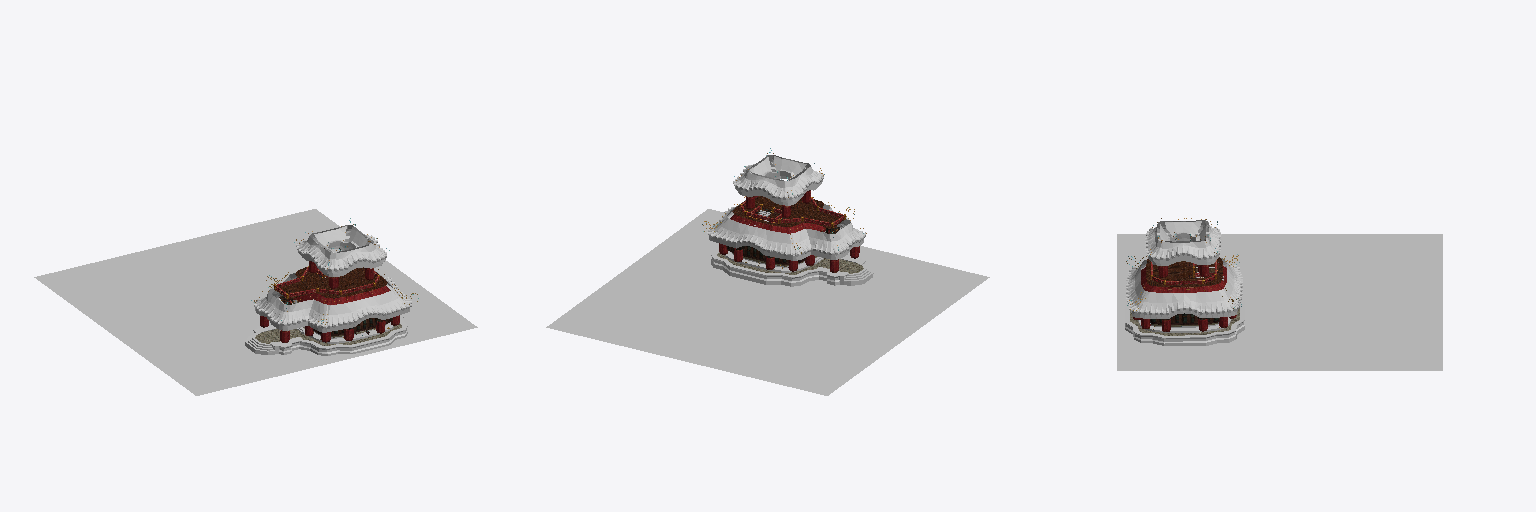
3 renders of one model, left to right at view 1: azimuth 30°, elevation 25°; view 2: azimuth 150°, elevation 25°; view 3: azimuth 270°, elevation 25°, orthographic.
Parts seen in each view (by area): view 1: Grid_Grid_None, PA_Inn_001.wmo_PA_Inn_001.wmo_text4.001, PA_Inn_001.wmo_PA_Inn_001.wmo_text6.001, PA_Inn_001.wmo_PA_Inn_001.wmo_text10.001, PA_Inn_001.wmo_PA_Inn_001.wmo_text14, PA_Inn_001.wmo_PA_Inn_001.wmo_text5.001, PA_Inn_001.wmo_PA_Inn_001.wmo_text15, PA_Inn_000.wmo_PA_Inn_000.wmo_text1.001_PA_REDPILLAR.PNG.001; view 2: Grid_Grid_None, PA_Inn_001.wmo_PA_Inn_001.wmo_text4.001, PA_Inn_001.wmo_PA_Inn_001.wmo_text10.001, PA_Inn_001.wmo_PA_Inn_001.wmo_text6.001, PA_Inn_001.wmo_PA_Inn_001.wmo_text14, PA_Inn_001.wmo_PA_Inn_001.wmo_text5.001, PA_Inn_001.wmo_PA_Inn_001.wmo_text15, PA_Inn_001.wmo_PA_Inn_001.wmo_text18, PA_Inn_000.wmo_PA_Inn_000.wmo_text1.001_PA_REDPILLAR.PNG.001; view 3: Grid_Grid_None, PA_Inn_001.wmo_PA_Inn_001.wmo_text4.001, PA_Inn_001.wmo_PA_Inn_001.wmo_text6.001, PA_Inn_001.wmo_PA_Inn_001.wmo_text10.001, PA_Inn_001.wmo_PA_Inn_001.wmo_text14, PA_Inn_000.wmo_PA_Inn_000.wmo_text1.001_PA_REDPILLAR.PNG.001, PA_Inn_001.wmo_PA_Inn_001.wmo_text5.001.
Part boxes in pixels (bbox=[...]): Grid_Grid_None: bbox=[34, 209, 477, 395]; PA_Inn_001.wmo_PA_Inn_001.wmo_text4.001: bbox=[256, 225, 409, 327]; PA_Inn_001.wmo_PA_Inn_001.wmo_text6.001: bbox=[253, 231, 411, 332]; PA_Inn_001.wmo_PA_Inn_001.wmo_text10.001: bbox=[245, 303, 407, 355]; PA_Inn_001.wmo_PA_Inn_001.wmo_text14: bbox=[274, 267, 387, 298]; PA_Inn_001.wmo_PA_Inn_001.wmo_text5.001: bbox=[260, 261, 399, 342]; PA_Inn_001.wmo_PA_Inn_001.wmo_text15: bbox=[255, 323, 401, 345]; PA_Inn_000.wmo_PA_Inn_000.wmo_text1.001_PA_REDPILLAR.PNG.001: bbox=[295, 274, 389, 304]; Grid_Grid_None: bbox=[546, 209, 989, 395]; PA_Inn_001.wmo_PA_Inn_001.wmo_text4.001: bbox=[710, 155, 863, 255]; PA_Inn_001.wmo_PA_Inn_001.wmo_text10.001: bbox=[711, 243, 873, 286]; PA_Inn_001.wmo_PA_Inn_001.wmo_text6.001: bbox=[707, 162, 865, 260]; PA_Inn_001.wmo_PA_Inn_001.wmo_text14: bbox=[732, 196, 843, 228]; PA_Inn_001.wmo_PA_Inn_001.wmo_text5.001: bbox=[719, 190, 859, 272]; PA_Inn_001.wmo_PA_Inn_001.wmo_text15: bbox=[717, 252, 863, 274]; PA_Inn_001.wmo_PA_Inn_001.wmo_text18: bbox=[740, 196, 844, 226]; PA_Inn_000.wmo_PA_Inn_000.wmo_text1.001_PA_REDPILLAR.PNG.001: bbox=[730, 211, 825, 233]; Grid_Grid_None: bbox=[1117, 234, 1442, 370]; PA_Inn_001.wmo_PA_Inn_001.wmo_text4.001: bbox=[1128, 220, 1240, 313]; PA_Inn_001.wmo_PA_Inn_001.wmo_text6.001: bbox=[1126, 226, 1242, 318]; PA_Inn_001.wmo_PA_Inn_001.wmo_text10.001: bbox=[1125, 300, 1244, 345]; PA_Inn_001.wmo_PA_Inn_001.wmo_text14: bbox=[1146, 257, 1223, 286]; PA_Inn_000.wmo_PA_Inn_000.wmo_text1.001_PA_REDPILLAR.PNG.001: bbox=[1141, 263, 1226, 292]; PA_Inn_001.wmo_PA_Inn_001.wmo_text5.001: bbox=[1133, 265, 1236, 331].
Size of the model in its own units: 131 by 43.85 by 131.
24 materials, 16 textured.